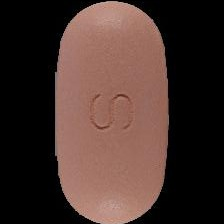47335-613: (0, 0, 224, 224)
